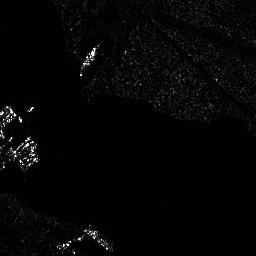ship: (84, 226, 114, 251)
